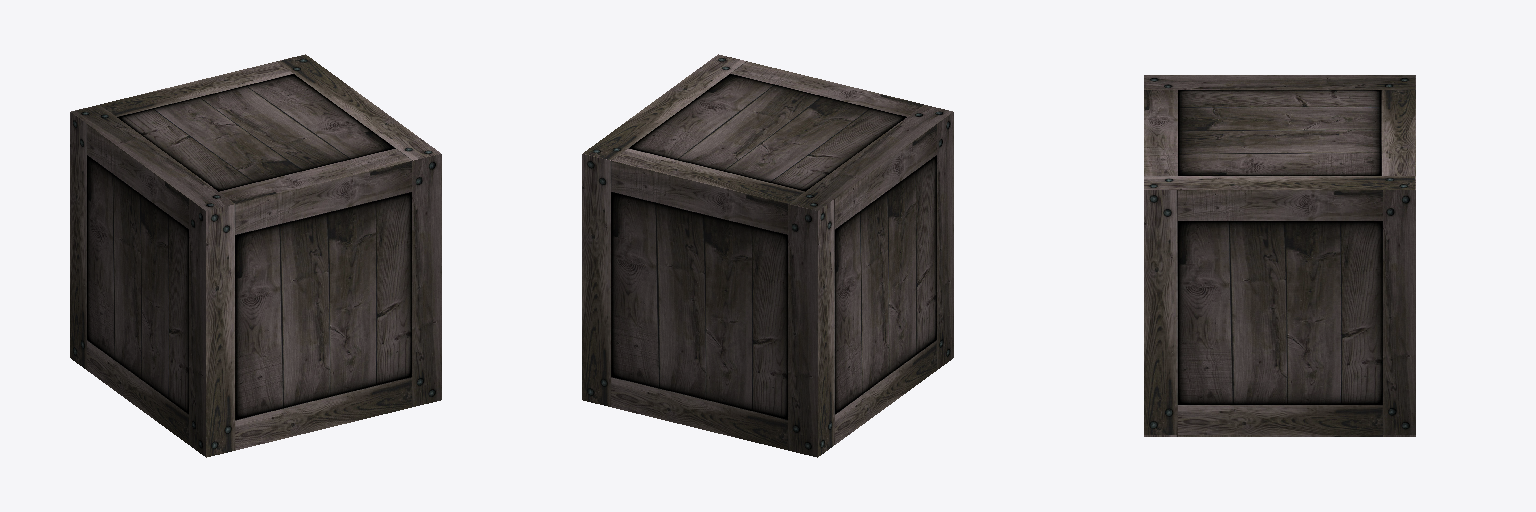
3 renders of one model, left to right at view 1: azimuth 30°, elevation 25°; view 2: azimuth 150°, elevation 25°; view 3: azimuth 270°, elevation 25°, orthographic.
Visible parts, largest first — view 1: Cube; view 2: Cube; view 3: Cube.
Part boxes in pixels (x1,y1,x2,y2): Cube: (70,54,441,457); Cube: (582,54,953,457); Cube: (1144,75,1415,436).
Bounding box in the file's own units: 2 × 2 × 2.
Materials: 1 (1 with a texture image).